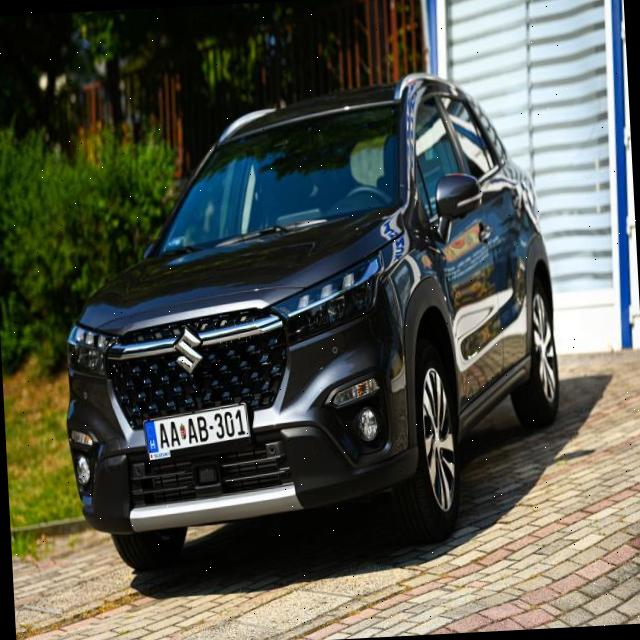licence: (144, 406, 254, 458)
